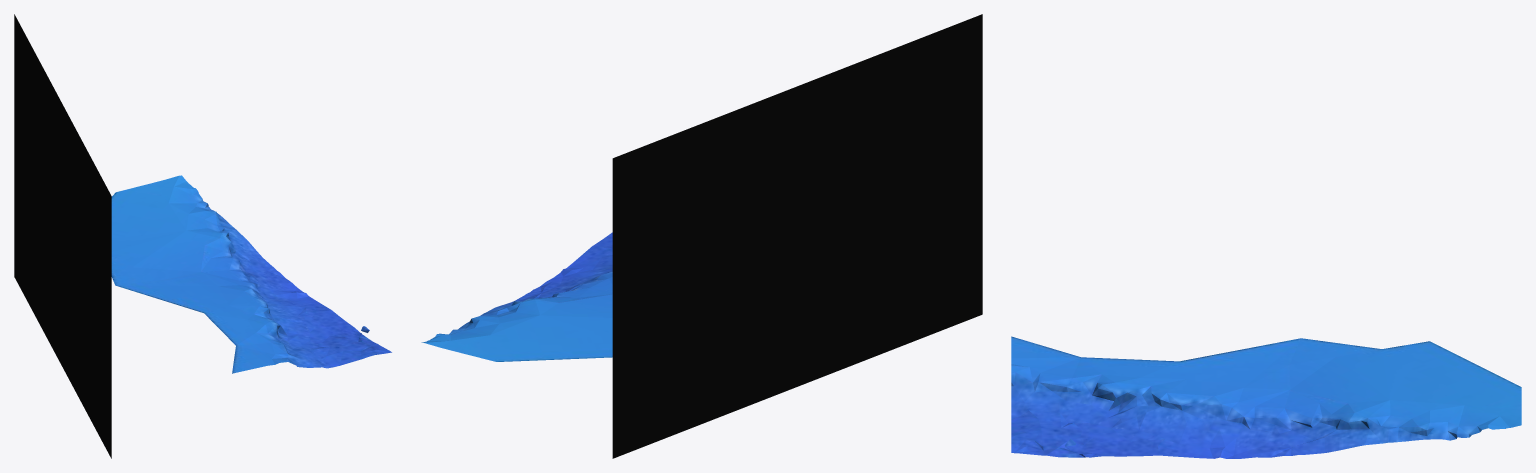
3 views of the same model, side by side, from view 1: azimuth 30°, elevation 25°; view 2: azimuth 150°, elevation 25°; view 3: azimuth 270°, elevation 25° (orthographic). The views are drawn at different scales.
Size of the model in its own units: 10.06 by 9 by 13.06.
Materials: 2 (2 with a texture image).
